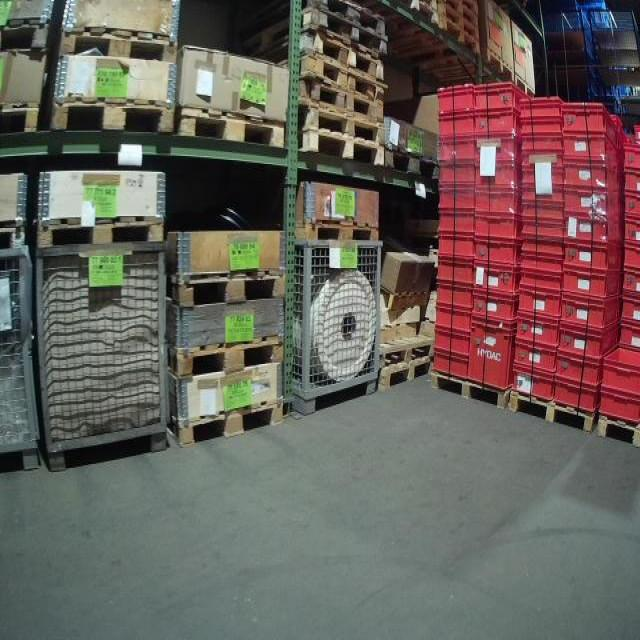pallet: (168, 397, 286, 444), (174, 103, 287, 151), (169, 332, 286, 378), (50, 96, 174, 139), (56, 26, 180, 66), (168, 267, 287, 307), (506, 385, 596, 436), (32, 215, 168, 247), (300, 54, 385, 99), (302, 32, 386, 77), (301, 13, 390, 54), (427, 371, 509, 413), (302, 84, 386, 121), (300, 107, 383, 142), (292, 216, 384, 245), (304, 133, 383, 165), (382, 142, 440, 183), (309, 6, 386, 36), (375, 355, 431, 391), (0, 16, 51, 53), (377, 335, 437, 366), (595, 411, 640, 451), (442, 21, 481, 55), (481, 46, 516, 83), (0, 99, 39, 132), (440, 8, 477, 37), (401, 1, 437, 25), (0, 219, 28, 249), (513, 74, 535, 99), (443, 3, 476, 15)
small_load_carrier: (467, 315, 515, 394), (559, 99, 622, 147), (559, 298, 619, 339), (562, 136, 625, 173), (558, 322, 619, 359), (556, 271, 618, 305), (559, 189, 623, 221), (561, 242, 621, 276), (563, 162, 624, 195), (561, 218, 624, 247), (553, 347, 604, 382), (552, 378, 602, 413), (476, 83, 525, 115), (474, 133, 523, 163), (512, 369, 553, 403), (475, 188, 523, 217), (597, 395, 639, 428), (602, 360, 640, 396), (474, 240, 522, 268), (471, 297, 518, 325), (520, 317, 559, 349), (474, 268, 523, 293), (474, 109, 525, 133), (475, 163, 523, 188), (474, 217, 522, 240), (513, 349, 559, 373), (435, 87, 477, 112), (513, 135, 566, 154), (438, 113, 475, 140), (439, 233, 475, 260), (516, 167, 564, 187), (437, 261, 475, 285), (437, 188, 472, 214), (522, 96, 565, 117), (520, 253, 563, 274), (439, 162, 475, 187), (520, 274, 562, 295), (523, 237, 563, 259), (520, 295, 560, 317), (437, 285, 472, 310), (434, 332, 466, 359), (438, 140, 475, 163), (434, 311, 472, 332), (515, 119, 566, 133), (522, 187, 564, 204), (522, 204, 562, 221), (516, 154, 566, 167), (438, 214, 472, 233), (523, 221, 563, 237), (620, 267, 640, 298), (619, 298, 638, 329), (434, 359, 466, 376), (622, 139, 638, 171), (622, 242, 639, 271), (619, 325, 639, 349), (625, 192, 640, 222), (624, 222, 640, 249), (625, 170, 639, 196)
stillage: (34, 234, 175, 483), (281, 226, 387, 419), (2, 240, 42, 477)
